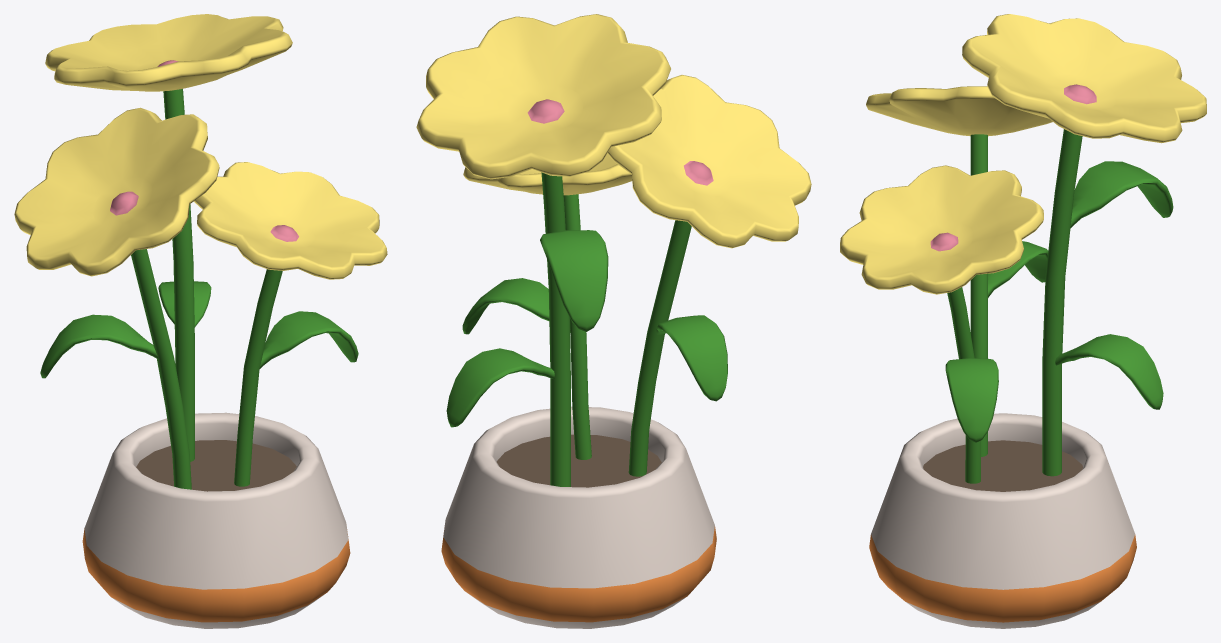
File: Flower_1.glb
The picture shows the model from 3 angles, left to right: view 1: azimuth 30°, elevation 25°; view 2: azimuth 150°, elevation 25°; view 3: azimuth 270°, elevation 25°; orthographic projection. The views are drawn at different scales.
Parts seen in each view (by area): view 1: Flower_5; view 2: Flower_5; view 3: Flower_5.
Boxes of the visible parts, x1,y1,x2,y2 form: Flower_5: [14, 14, 387, 628]; Flower_5: [416, 14, 811, 628]; Flower_5: [840, 14, 1206, 628].
Size of the model in its own units: 1.11 by 1.76 by 1.08.
Materials: 1 (1 with a texture image).
